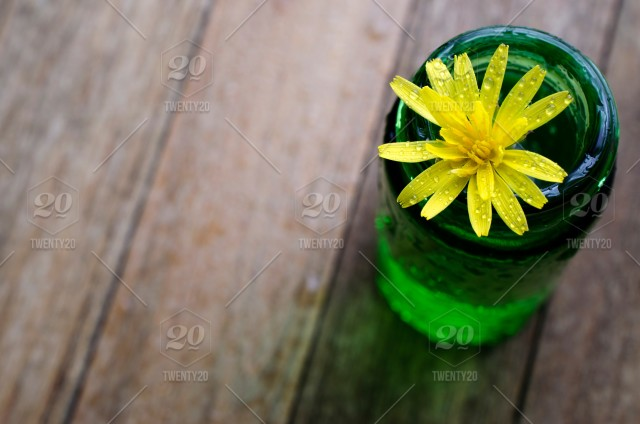dandelion: (387, 56, 556, 235)
